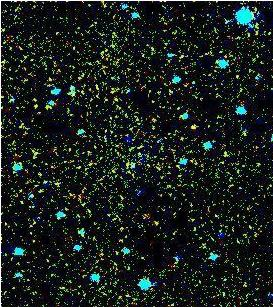star: (179, 111, 209, 141)
